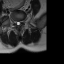CCS_stenosis: (17, 19, 19, 27)
LFS_stenosis: (21, 19, 22, 23)
LLS_normal: (19, 20, 20, 25)
RFS_normal: (14, 19, 16, 24)
RLS_normal: (15, 20, 17, 25)
